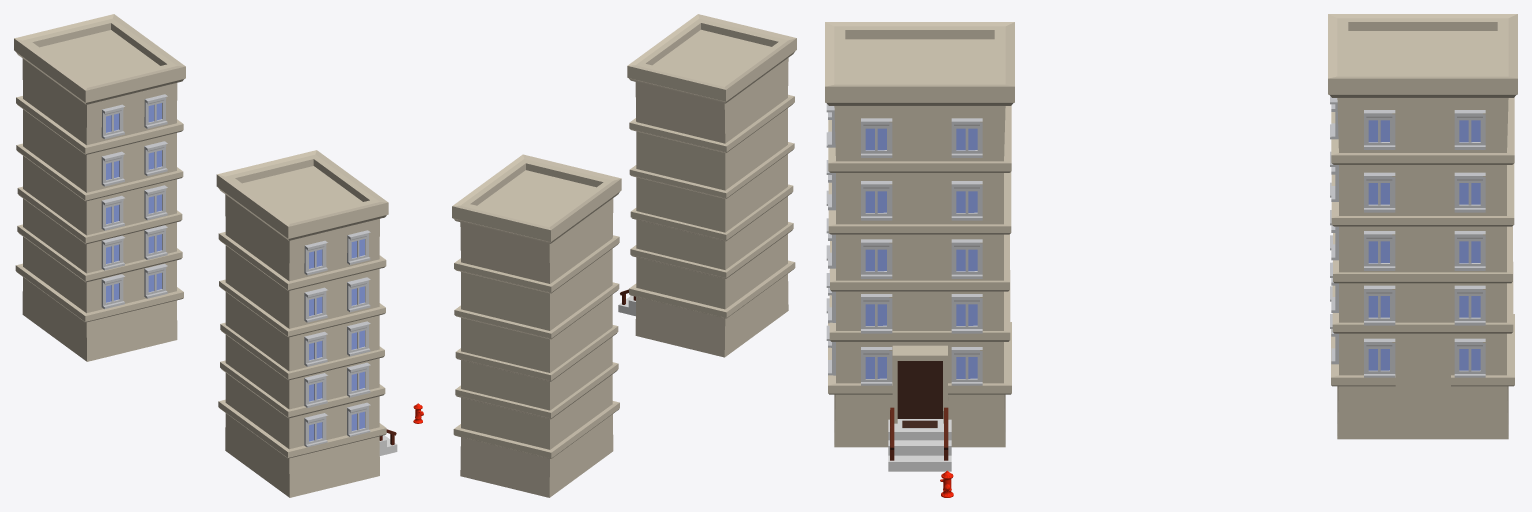
Rendered from YeniBina.fbx.
3 renders of one model, left to right at view 1: azimuth 30°, elevation 25°; view 2: azimuth 150°, elevation 25°; view 3: azimuth 270°, elevation 25°, orthographic. The views are drawn at different scales.
Parts seen in each view (by area): view 1: Bina, Bina.003; view 2: Bina, Bina.003; view 3: Bina, Bina.003.
Part boxes in pixels (left/top/right/bottom): Bina: left=216, top=150, right=397, bottom=497; Bina.003: left=14, top=14, right=185, bottom=361; Bina: left=618, top=14, right=796, bottom=357; Bina.003: left=452, top=154, right=621, bottom=497; Bina: left=825, top=22, right=1014, bottom=471; Bina.003: left=1328, top=14, right=1517, bottom=439.
Size of the model in its own units: 1403 by 1900 by 3280.
